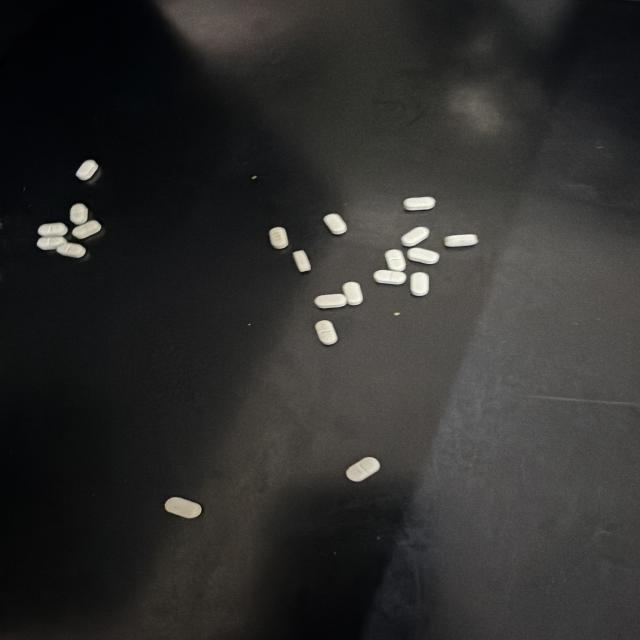pill: (347, 457, 380, 482), (165, 497, 201, 518), (72, 220, 101, 239), (315, 320, 337, 345), (401, 227, 429, 246), (407, 248, 439, 264), (324, 214, 347, 234), (343, 282, 363, 305), (315, 294, 347, 308), (374, 270, 406, 284), (385, 250, 406, 271), (76, 160, 98, 180), (69, 203, 89, 225), (410, 273, 429, 296), (56, 243, 85, 258), (269, 227, 288, 249), (292, 250, 311, 272), (403, 197, 435, 210), (444, 235, 478, 247), (38, 223, 67, 236), (37, 237, 66, 250)
